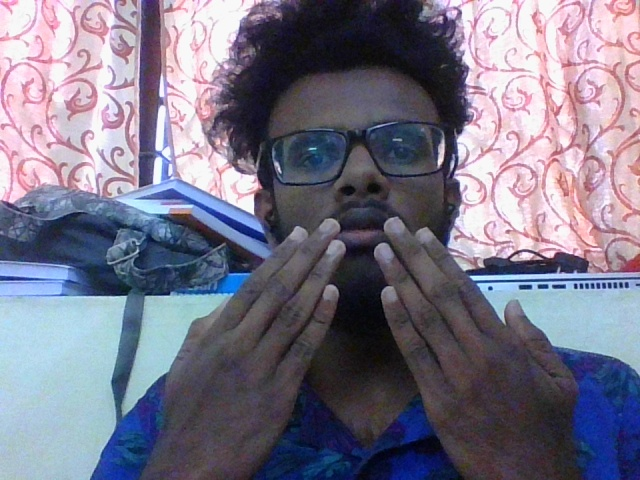thank: (162, 210, 590, 455)
